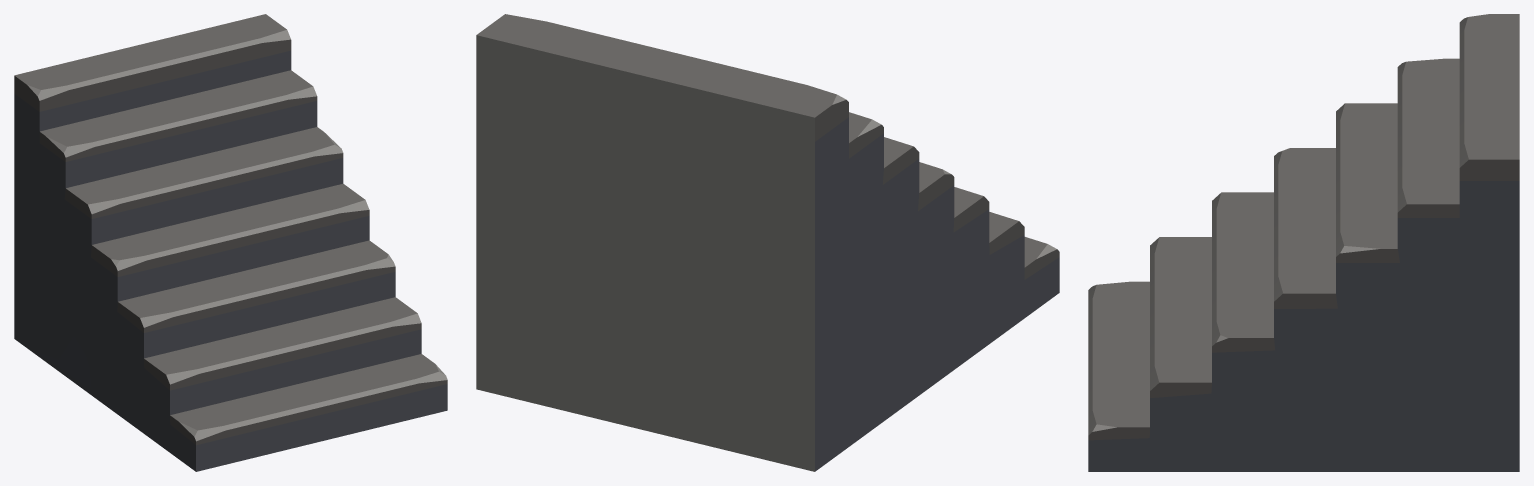
Rendered from 20C_stairs_01.fbx.
The picture shows the model from 3 angles, left to right: view 1: azimuth 30°, elevation 25°; view 2: azimuth 150°, elevation 25°; view 3: azimuth 270°, elevation 25°; orthographic projection. The views are drawn at different scales.
Parts seen in each view (by area): view 1: 20C_stairs_01; view 2: 20C_stairs_01; view 3: 20C_stairs_01.
Boxes of the visible parts, x1,y1,x2,y2 form: 20C_stairs_01: (14,14,447,471); 20C_stairs_01: (476,14,1059,471); 20C_stairs_01: (1088,14,1519,471).
Size of the model in its own units: 20 by 20 by 25.04.
